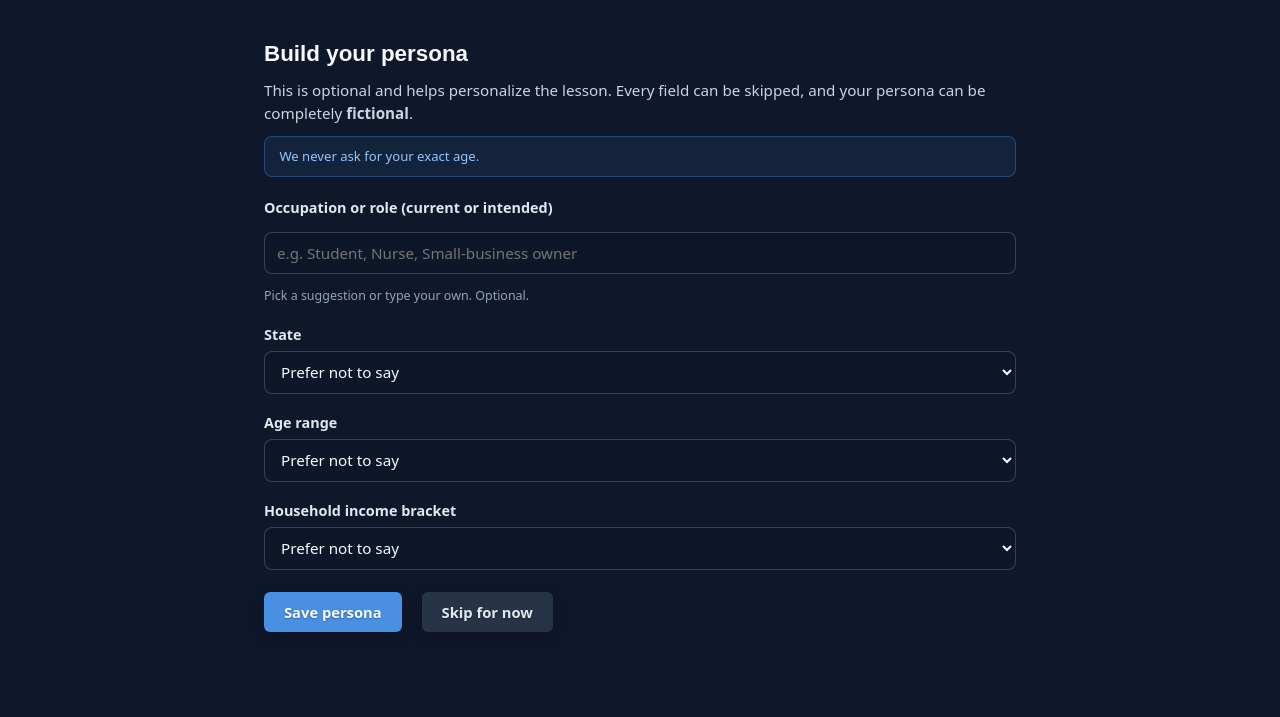
Test: LessonPersona › shows an error and stays on the page when lesson generation fails
What coordinates should you click on to do the following:
click the button with test id "persona-skip"
I would click on:
 (487, 612)
Its box is [422,592,553,632].
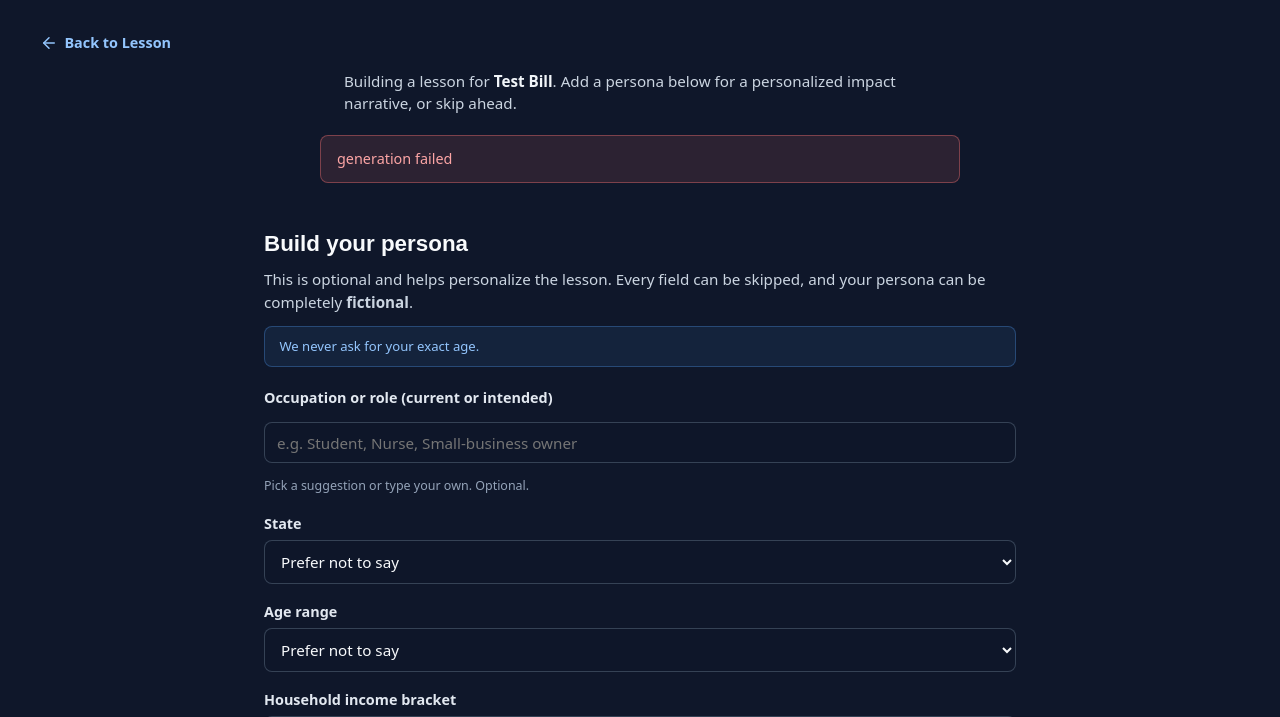
Expected: the text "generation failed" is shown, [320,135,960,183]
